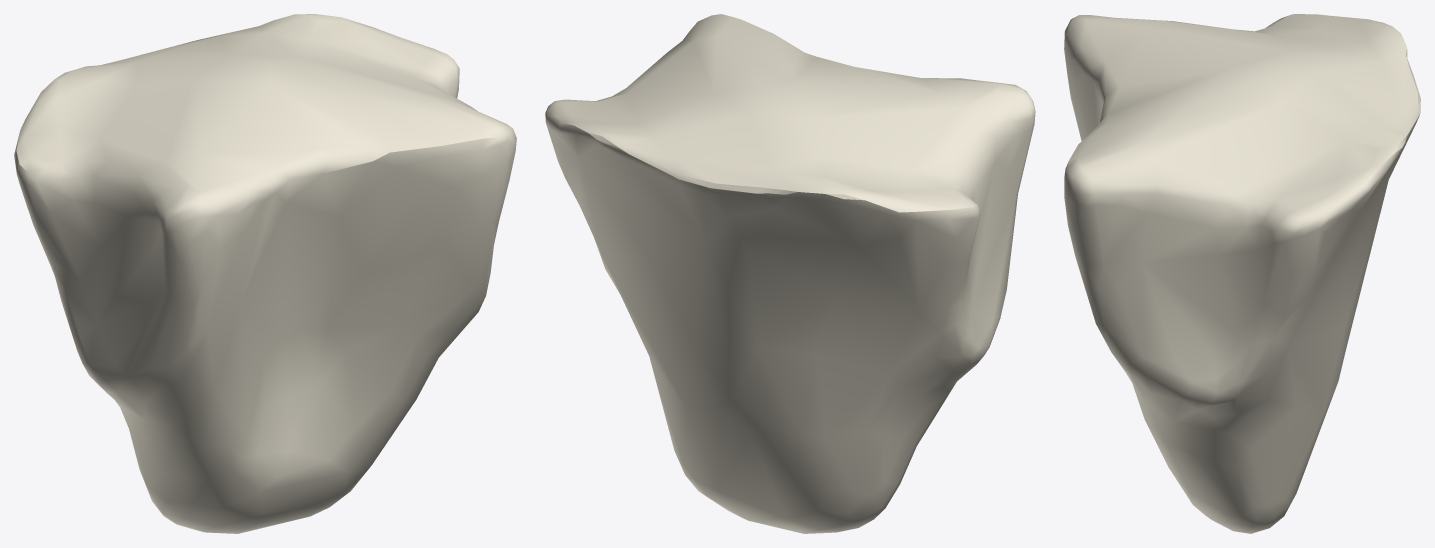
File: fma7488_fj3153.glb
3 renders of one model, left to right at view 1: azimuth 30°, elevation 25°; view 2: azimuth 150°, elevation 25°; view 3: azimuth 270°, elevation 25°, orthographic. The views are drawn at different scales.
Parts seen in each view (by area): view 1: FMA7488_FJ3153; view 2: FMA7488_FJ3153; view 3: FMA7488_FJ3153.
Boxes of the visible parts, <box> form: FMA7488_FJ3153: <box>14,14,516,533</box>; FMA7488_FJ3153: <box>545,14,1035,533</box>; FMA7488_FJ3153: <box>1064,14,1420,533</box>.
Size of the model in its own units: 0.0209 by 0.0205 by 0.0148.
